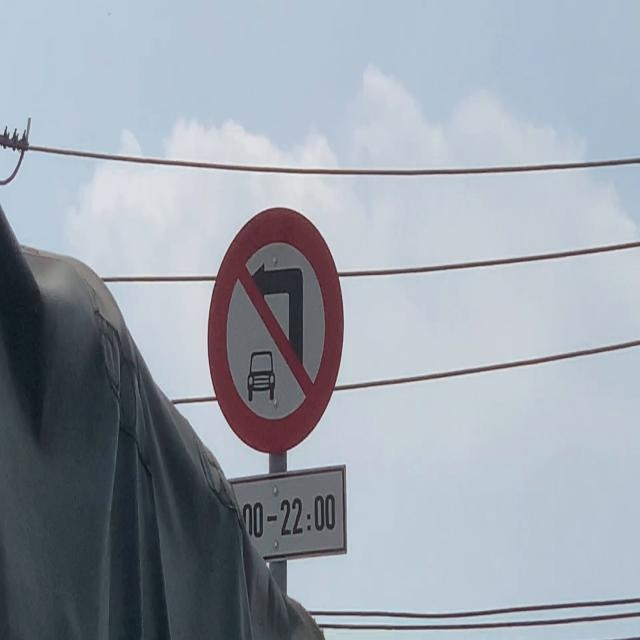bien_cam: (210, 204, 347, 454)
